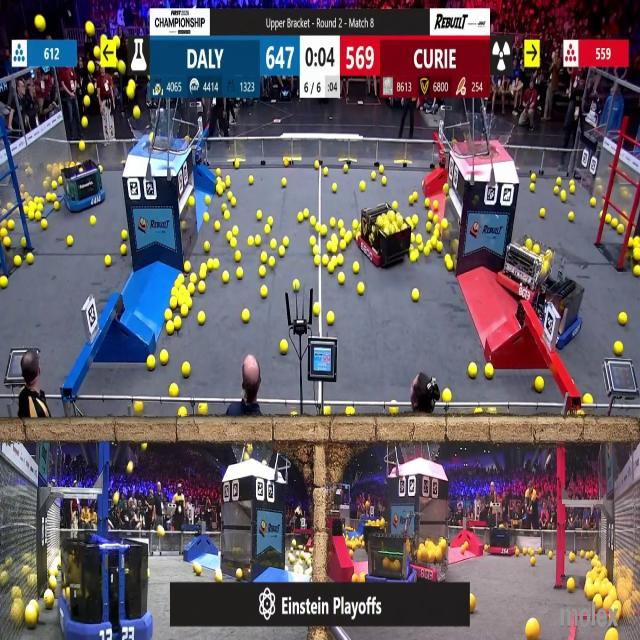ball_airborne: (35, 14, 45, 30), (128, 82, 136, 100), (86, 22, 95, 37), (117, 61, 125, 75), (85, 96, 94, 108), (133, 106, 141, 119), (88, 85, 96, 96), (94, 46, 101, 58), (90, 61, 96, 74), (114, 35, 120, 48), (83, 97, 90, 108), (78, 141, 85, 152), (128, 461, 134, 473), (82, 116, 87, 128)
ball_ground: (181, 361, 190, 376), (485, 363, 494, 378), (534, 377, 543, 392), (147, 355, 156, 369), (280, 340, 288, 355), (468, 362, 476, 377), (200, 404, 208, 418), (617, 344, 624, 359), (174, 316, 182, 329), (567, 580, 575, 593), (136, 403, 144, 415), (171, 384, 179, 396), (243, 310, 250, 323), (313, 304, 320, 317), (12, 255, 20, 266), (183, 262, 190, 274), (339, 273, 346, 285), (200, 270, 208, 280), (1, 277, 8, 288), (321, 254, 328, 265), (105, 255, 112, 266), (28, 253, 35, 264), (221, 273, 228, 284), (357, 283, 364, 294), (68, 236, 74, 248), (353, 263, 359, 275), (338, 254, 344, 266), (390, 408, 398, 417), (253, 236, 260, 246), (447, 262, 454, 272), (412, 252, 419, 262), (259, 268, 266, 278), (166, 310, 173, 320), (232, 238, 238, 249), (120, 231, 126, 242), (216, 571, 222, 582), (179, 409, 186, 418), (314, 255, 320, 265), (341, 241, 347, 251), (214, 220, 220, 230), (248, 237, 254, 247), (271, 240, 277, 250), (539, 208, 545, 218), (296, 212, 302, 222), (120, 244, 125, 255), (278, 247, 284, 256), (41, 219, 47, 228), (91, 216, 97, 225), (424, 247, 430, 256), (327, 265, 333, 274), (237, 251, 242, 261), (284, 237, 289, 247), (561, 190, 566, 200), (426, 221, 431, 231), (432, 200, 437, 210), (432, 214, 438, 222), (392, 202, 398, 210), (313, 246, 318, 255), (425, 200, 430, 209), (331, 183, 336, 192), (232, 199, 237, 208), (8, 219, 13, 228), (360, 180, 364, 191), (360, 186, 366, 193), (530, 183, 535, 191), (568, 212, 573, 220), (282, 178, 287, 186), (315, 162, 320, 170), (341, 231, 346, 238), (249, 176, 253, 184), (344, 165, 348, 173), (324, 168, 328, 176), (531, 557, 535, 565)
goal: (460, 117, 516, 158)
robot_blue: (53, 533, 165, 640), (532, 269, 587, 347), (363, 525, 419, 598), (62, 159, 108, 213)
robot_red: (357, 203, 411, 270), (507, 235, 554, 285), (409, 530, 450, 586), (486, 523, 518, 554)
